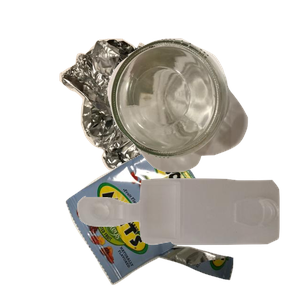glass: (105, 36, 300, 201)
metal: (57, 36, 241, 216)
plastic: (75, 176, 300, 300)
trash: (63, 137, 289, 300)
